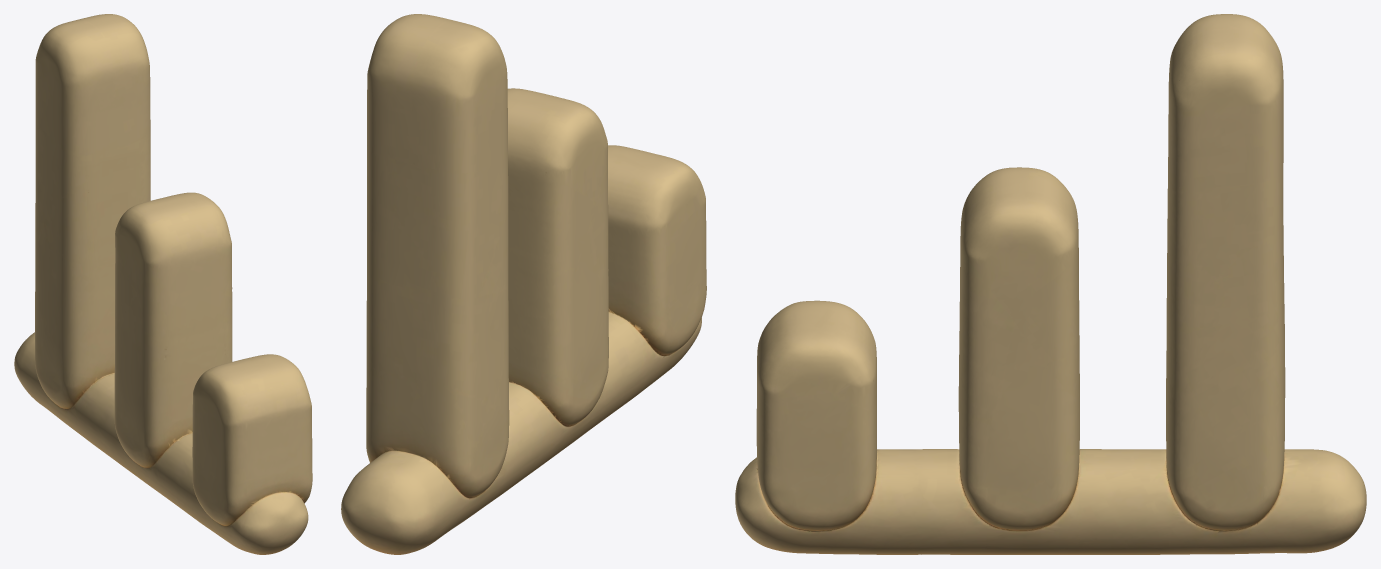
Rendered from sudyar-about-model.glb.
3 renders of one model, left to right at view 1: azimuth 30°, elevation 25°; view 2: azimuth 150°, elevation 25°; view 3: azimuth 270°, elevation 25°, orthographic. The views are drawn at different scales.
Visible parts, largest first — view 1: tripo_node_1a7374e1-cf2e-434d-ac4c-4d604e3463d2; view 2: tripo_node_1a7374e1-cf2e-434d-ac4c-4d604e3463d2; view 3: tripo_node_1a7374e1-cf2e-434d-ac4c-4d604e3463d2.
Part boxes in pixels (x1,y1,x2,y2): tripo_node_1a7374e1-cf2e-434d-ac4c-4d604e3463d2: (14,14,312,554); tripo_node_1a7374e1-cf2e-434d-ac4c-4d604e3463d2: (341,14,706,554); tripo_node_1a7374e1-cf2e-434d-ac4c-4d604e3463d2: (735,14,1366,554).
Size of the model in its own units: 0.2067 by 0.9018 by 1.
Materials: 1 (1 with a texture image).
